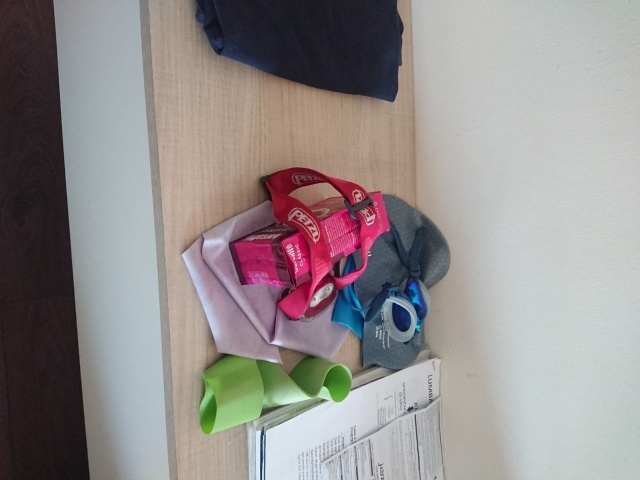Barcaffe Classic Original 225g: (226, 190, 392, 292)
